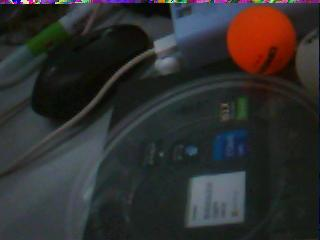oball: (226, 6, 294, 72)
